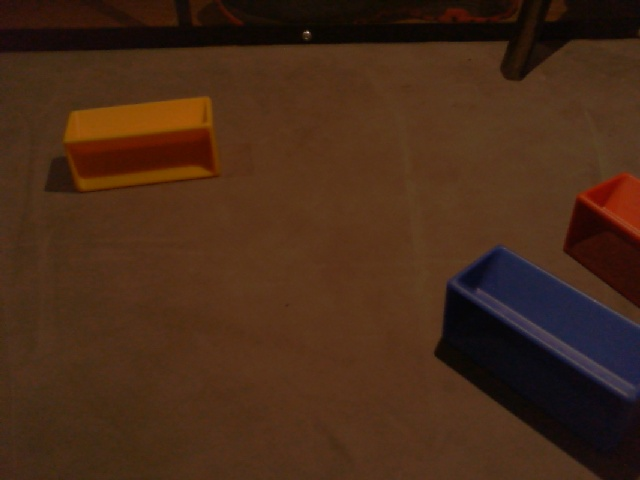BlueSample: (444, 243, 640, 463)
RedSample: (561, 173, 640, 313)
YellowSample: (57, 94, 222, 195)
